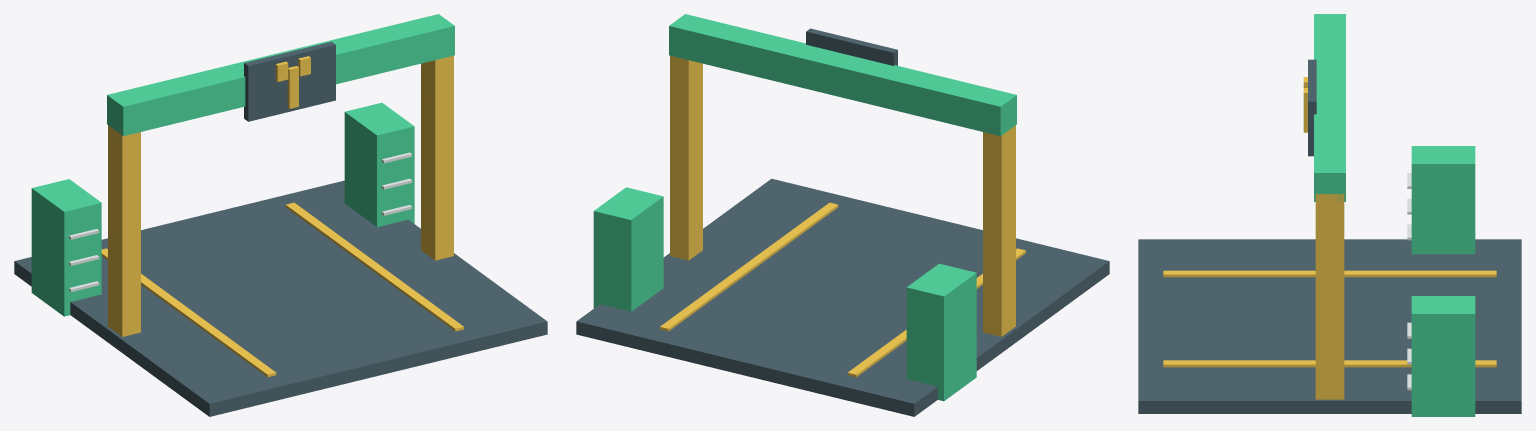
The model's file is pickup-repair.glb.
3 renders of one model, left to right at view 1: azimuth 30°, elevation 25°; view 2: azimuth 150°, elevation 25°; view 3: azimuth 270°, elevation 25°, orthographic.
Parts seen in each view (by area): view 1: Service platform, Gantry header, Tool cabinet, Tool cabinet.001, Service gantry, Service gantry.001, Repair sign, Guide stripe.001, Guide stripe, Wrench handle; view 2: Service platform, Gantry header, Tool cabinet, Tool cabinet.001, Service gantry, Service gantry.001, Guide stripe.001, Repair sign, Guide stripe; view 3: Service platform, Tool cabinet.001, Tool cabinet, Service gantry.001, Gantry header, Guide stripe, Guide stripe.001, Repair sign.
Part boxes in pixels (x1=…): Service platform: x1=14, y1=180, x2=547, y2=416; Gantry header: x1=107, y1=14, x2=454, y2=136; Tool cabinet: x1=31, y1=179, x2=101, y2=316; Tool cabinet.001: x1=344, y1=102, x2=414, y2=227; Service gantry: x1=108, y1=125, x2=140, y2=336; Service gantry.001: x1=421, y1=55, x2=453, y2=260; Repair sign: x1=244, y1=41, x2=335, y2=121; Guide stripe.001: x1=285, y1=202, x2=463, y2=331; Guide stripe: x1=101, y1=248, x2=276, y2=377; Wrench handle: x1=287, y1=66, x2=298, y2=108; Service platform: x1=576, y1=178, x2=1109, y2=416; Gantry header: x1=669, y1=14, x2=1016, y2=136; Tool cabinet: x1=906, y1=263, x2=976, y2=401; Tool cabinet.001: x1=593, y1=187, x2=663, y2=311; Service gantry: x1=983, y1=125, x2=1015, y2=336; Service gantry.001: x1=670, y1=55, x2=702, y2=260; Guide stripe.001: x1=660, y1=202, x2=838, y2=331; Repair sign: x1=806, y1=28, x2=897, y2=65; Guide stripe: x1=847, y1=248, x2=1025, y2=377; Service platform: x1=1138, y1=239, x2=1521, y2=413; Tool cabinet.001: x1=1411, y1=296, x2=1475, y2=416; Tool cabinet: x1=1411, y1=146, x2=1475, y2=254; Service gantry.001: x1=1315, y1=194, x2=1344, y2=399; Gantry header: x1=1314, y1=14, x2=1345, y2=201; Guide stripe: x1=1163, y1=270, x2=1496, y2=277; Guide stripe.001: x1=1163, y1=360, x2=1496, y2=367; Repair sign: x1=1308, y1=59, x2=1316, y2=156.
Size of the model in its own units: 5.6 by 3.93 by 5.4.
